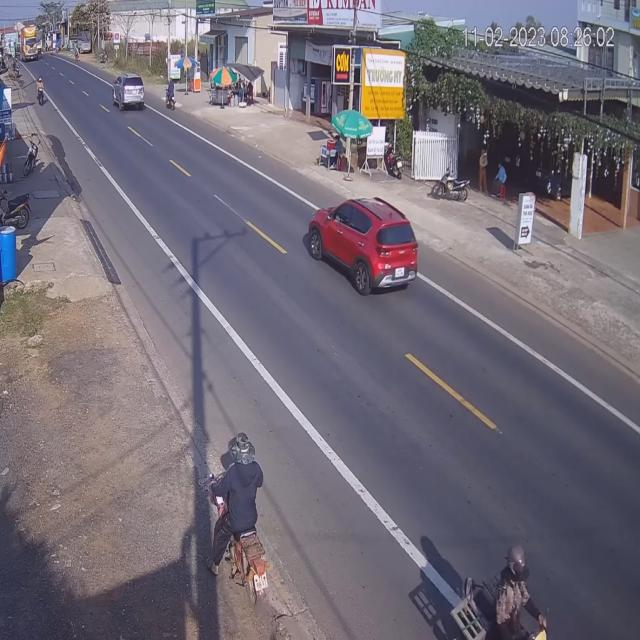car: (304, 199, 420, 298), (113, 74, 147, 114)
motorbike: (211, 430, 266, 604), (454, 546, 548, 640), (166, 81, 178, 112), (34, 77, 44, 106)
